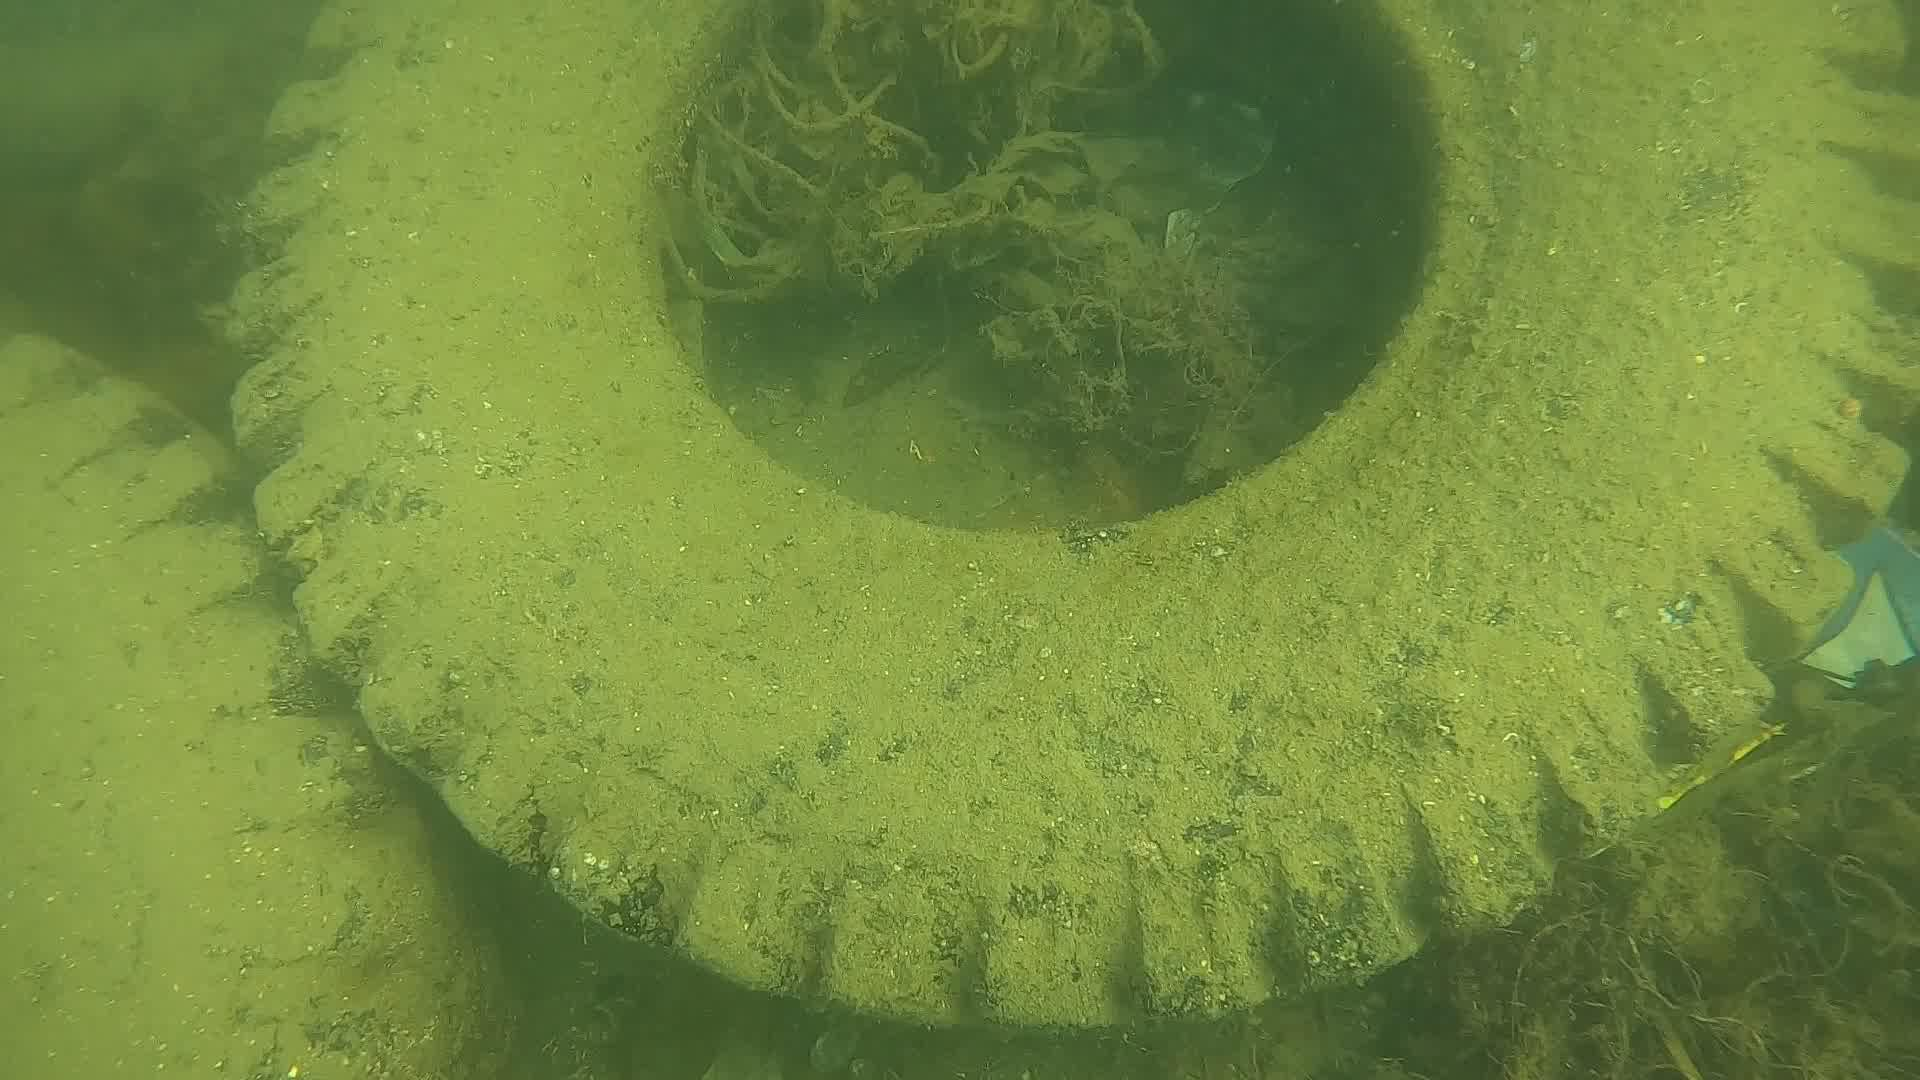tire: (225, 0, 1920, 1025)
